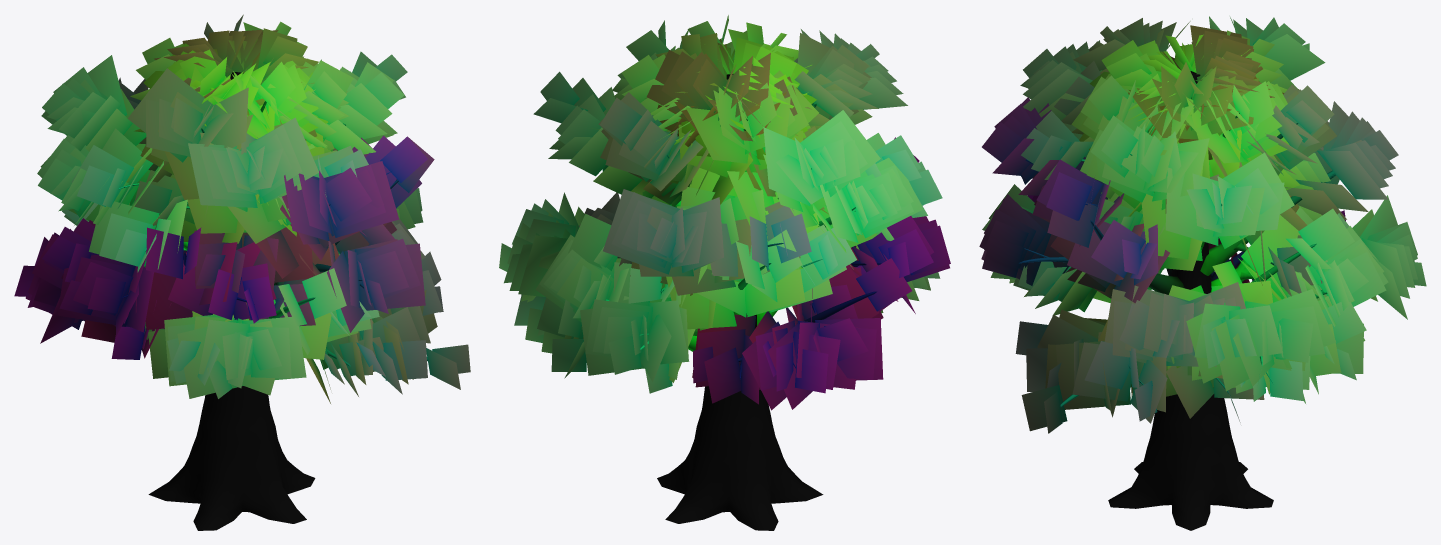
Rendered from SM_BigTree.fbx.
3 renders of one model, left to right at view 1: azimuth 30°, elevation 25°; view 2: azimuth 150°, elevation 25°; view 3: azimuth 270°, elevation 25°, orthographic.
Visible parts, largest first — view 1: _1, _0; view 2: _1, _0; view 3: _1, _0.
Part boxes in pixels (x1,y1,x2,y2): _1: (14, 14, 470, 403); _0: (118, 72, 427, 530); _1: (499, 15, 950, 410); _0: (606, 74, 913, 530); _1: (979, 16, 1426, 433); _0: (1019, 71, 1336, 530).
Bounding box in the file's own units: 343 × 377 × 339.
